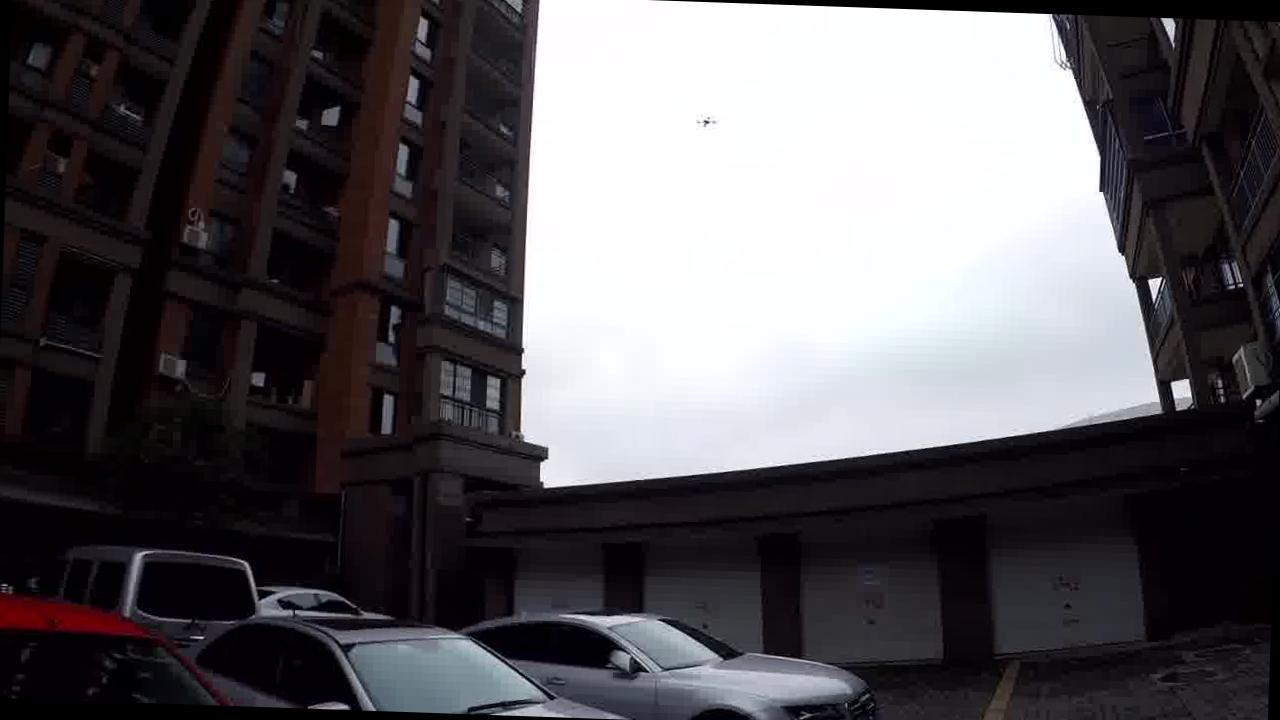drone: (677, 93, 731, 137)
